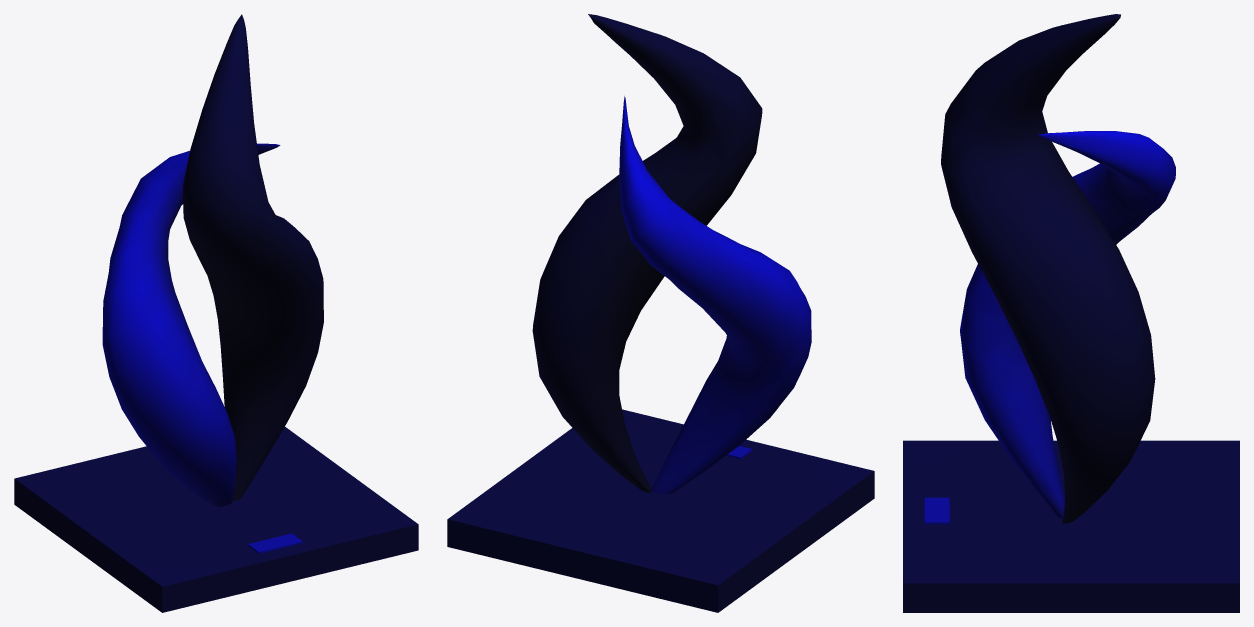
File: TwistingFigures.glb
3 views of the same model, side by side, from view 1: azimuth 30°, elevation 25°; view 2: azimuth 150°, elevation 25°; view 3: azimuth 270°, elevation 25° (orthographic). The views are drawn at different scales.
Visible parts, largest first — view 1: TwistingFigures; view 2: TwistingFigures; view 3: TwistingFigures.
Boxes of the visible parts, left/top/right/bottom form: TwistingFigures: left=14, top=14, right=418, bottom=612; TwistingFigures: left=447, top=14, right=874, bottom=612; TwistingFigures: left=903, top=14, right=1239, bottom=612.
Size of the model in its own units: 13.45 by 24.37 by 13.45.
